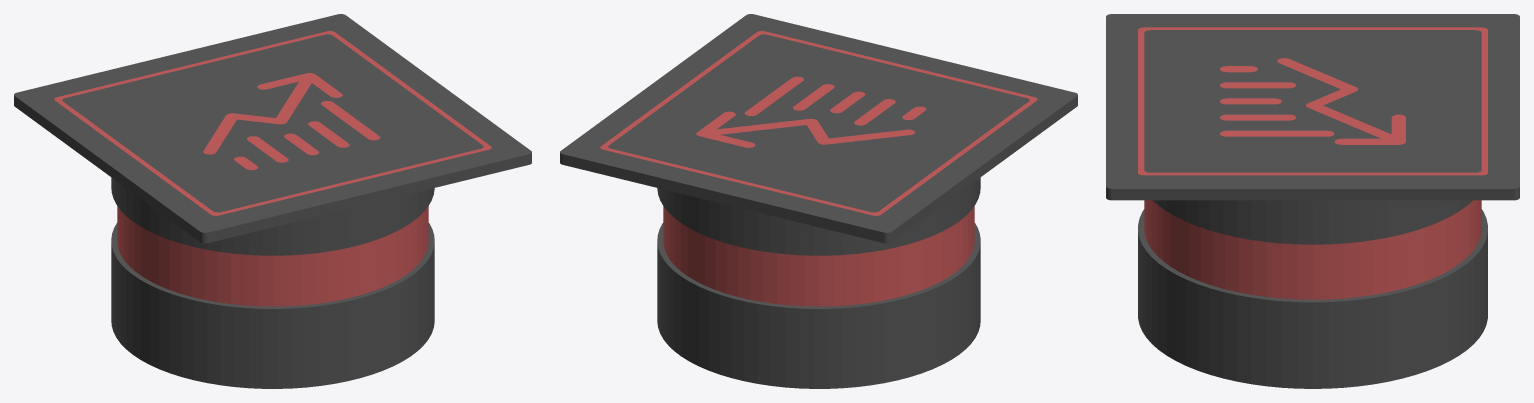
File: bomboniera-economia-facolta-montato.glb
3 renders of one model, left to right at view 1: azimuth 30°, elevation 25°; view 2: azimuth 150°, elevation 25°; view 3: azimuth 270°, elevation 25°, orthographic. The views are drawn at different scales.
Parts seen in each view (by area): view 1: struttura_coperchio, struttura_base, fascia, simbolo_intarsio, bordo; view 2: struttura_coperchio, struttura_base, fascia, simbolo_intarsio, bordo; view 3: struttura_coperchio, struttura_base, fascia, simbolo_intarsio, bordo.
Part boxes in pixels (x1,y1,x2,y2): struttura_coperchio: (14,14,531,255); struttura_base: (111,223,434,388); fascia: (117,206,428,306); simbolo_intarsio: (203,73,380,170); bordo: (54,31,491,215); struttura_coperchio: (560,14,1077,255); struttura_base: (657,223,980,388); fascia: (663,206,974,306); simbolo_intarsio: (696,76,926,147); bordo: (600,31,1037,215); struttura_coperchio: (1106,14,1519,244); struttura_base: (1138,209,1487,388); fascia: (1144,200,1481,299); simbolo_intarsio: (1220,58,1405,144); bordo: (1138,27,1487,175).
Bounding box in the file's own units: 0.065 × 0.037 × 0.065.
